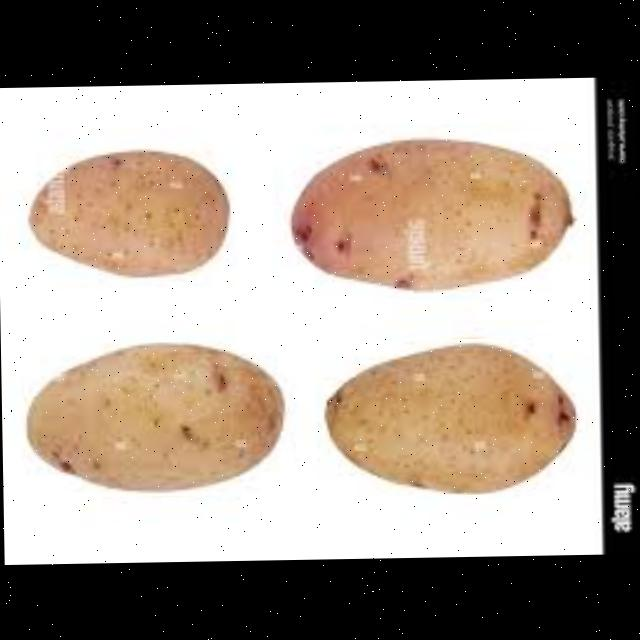Potato: (282, 130, 582, 294), (21, 338, 294, 498), (320, 335, 583, 496), (20, 146, 238, 284)
